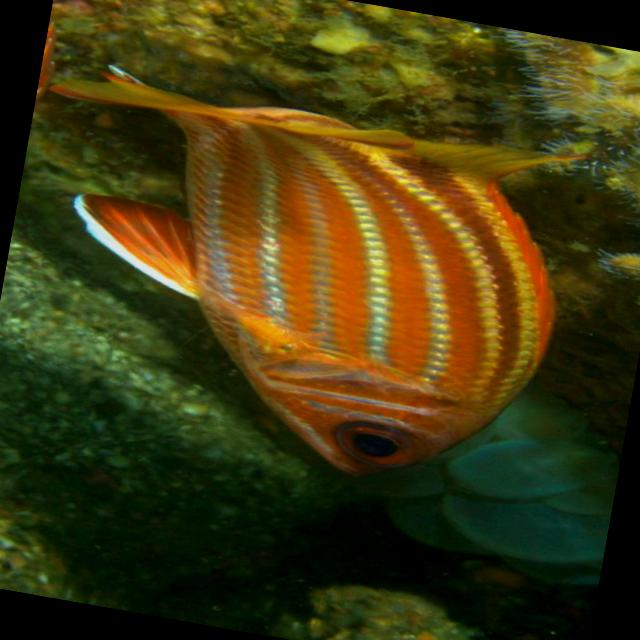Asker Baligi: (0, 52, 612, 520)
